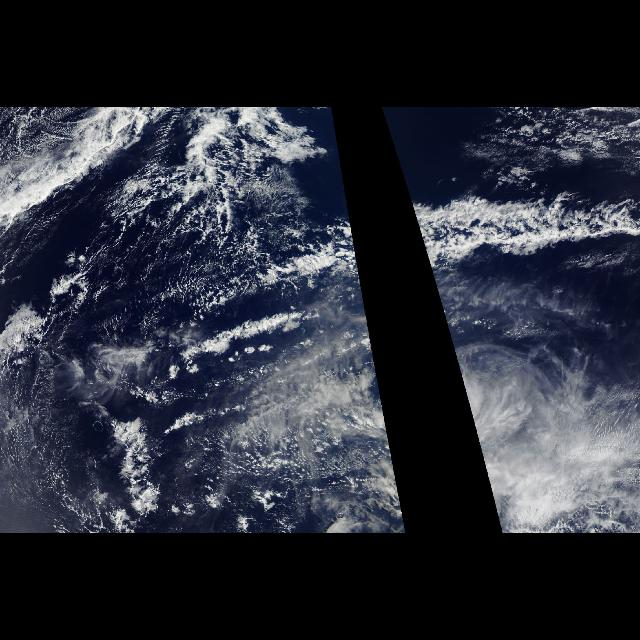Fish: (142, 108, 364, 294), (407, 190, 639, 294), (104, 408, 168, 524)
